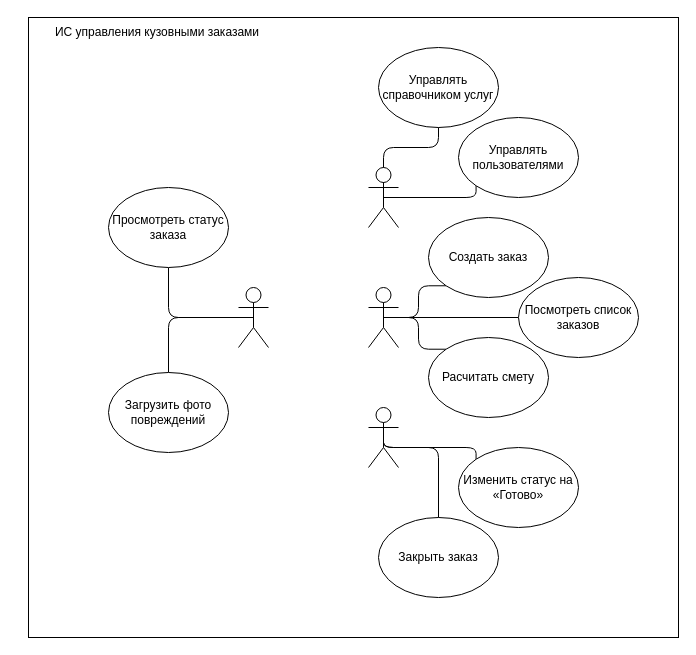
This 696x655 diagram has some shape labels left out. The shapes that lost their labels are listed below. From the top down, each one's centre as x and y in pixels, then its label:
point 383,197: Админ
point 253,317: Клиент
point 383,317: Менеджер
point 383,437: Мастер
